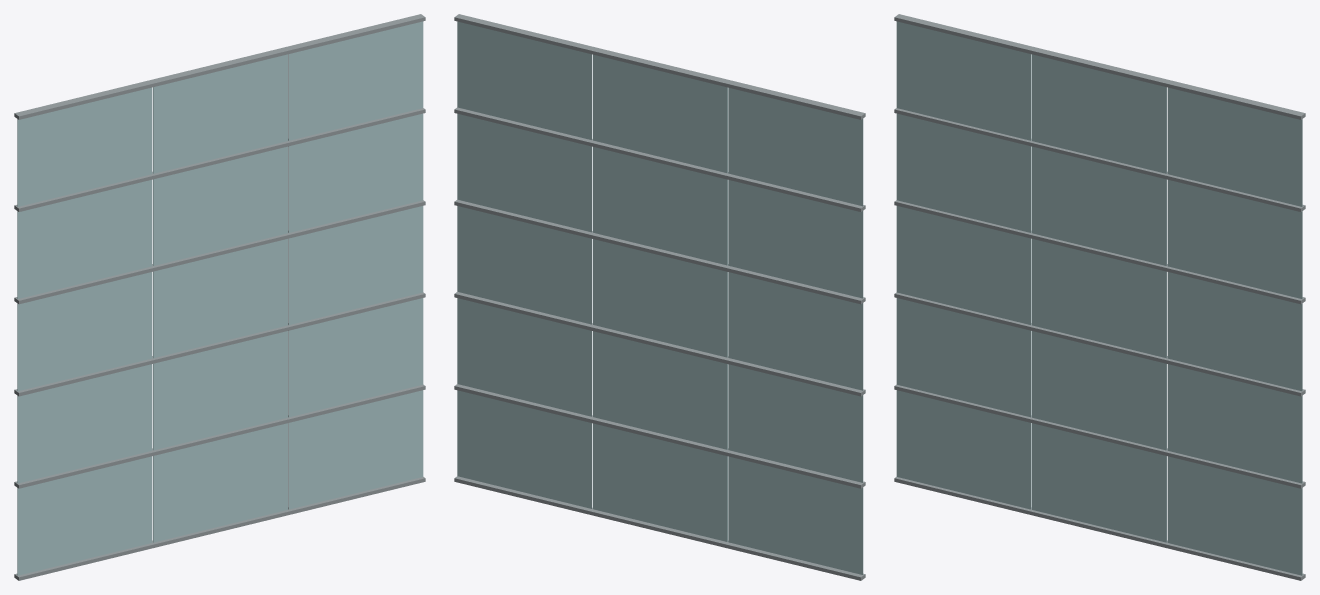
File: edsSignage-1.glb
3 views of the same model, side by side, from view 1: azimuth 30°, elevation 25°; view 2: azimuth 150°, elevation 25°; view 3: azimuth 330°, elevation 25° (orthographic).
Visible parts, largest first — view 1: eds-timeline/acrylic-proxy, eds-timeline/anodized-aluminum; view 2: eds-timeline/acrylic-proxy, eds-timeline/anodized-aluminum; view 3: eds-timeline/acrylic-proxy, eds-timeline/anodized-aluminum.
Part boxes in pixels (box(x1,y1,x2,y2)): eds-timeline/acrylic-proxy: box(17, 21, 423, 575); eds-timeline/anodized-aluminum: box(14, 14, 425, 580); eds-timeline/acrylic-proxy: box(457, 21, 863, 574); eds-timeline/anodized-aluminum: box(454, 14, 865, 580); eds-timeline/acrylic-proxy: box(896, 21, 1302, 575); eds-timeline/anodized-aluminum: box(894, 14, 1305, 580).
Bounding box in the file's own units: 1.68 × 1.83 × 0.032.
